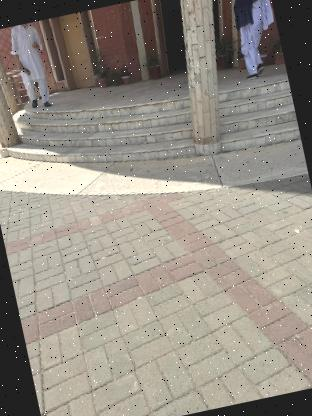stair: (9, 47, 301, 198)
